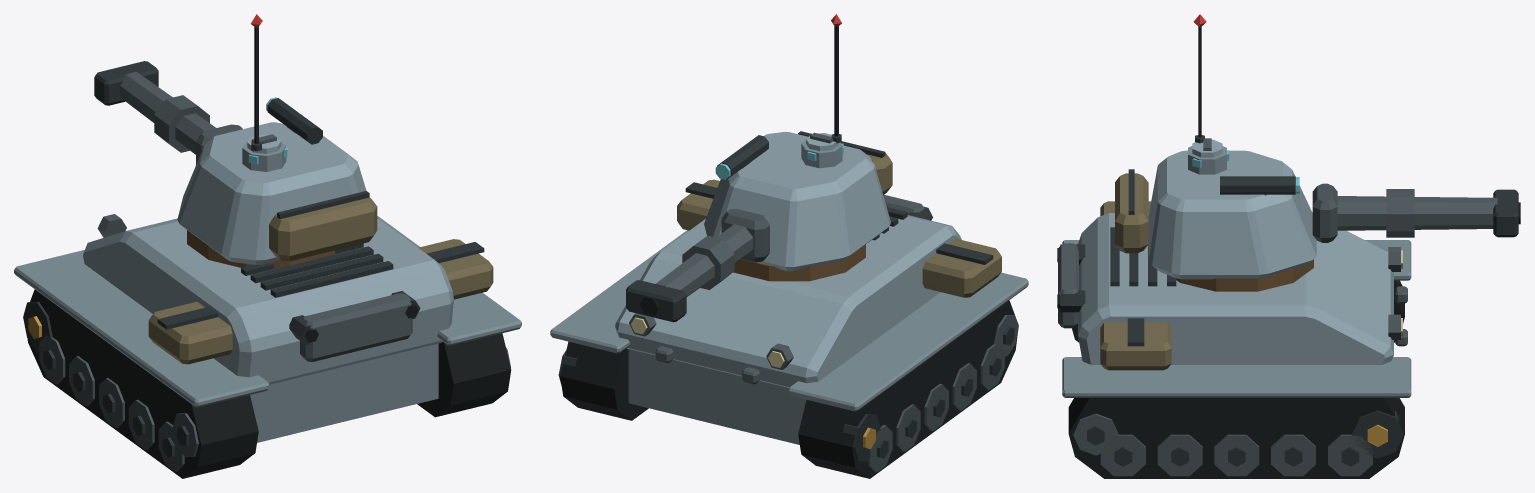
3 renders of one model, left to right at view 1: azimuth 30°, elevation 25°; view 2: azimuth 150°, elevation 25°; view 3: azimuth 270°, elevation 25°, orthographic. The views are drawn at different scales.
Parts seen in each view (by area): view 1: hull_07, turret_07; view 2: hull_07, turret_07; view 3: hull_07, turret_07.
Part boxes in pixels (x1,y1,x2,y2): hull_07: [14, 214, 521, 478]; turret_07: [94, 14, 377, 269]; hull_07: [550, 179, 1028, 478]; turret_07: [626, 14, 892, 322]; hull_07: [1057, 201, 1411, 478]; turret_07: [1115, 14, 1520, 291].
Bounding box in the file's own units: 0.855 × 0.9938 × 1.1.
